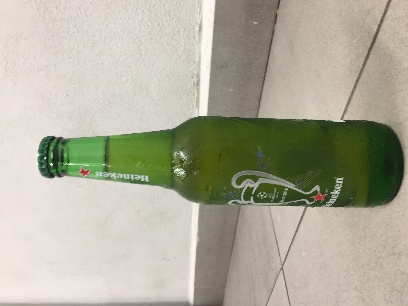HB: (26, 86, 293, 149)
